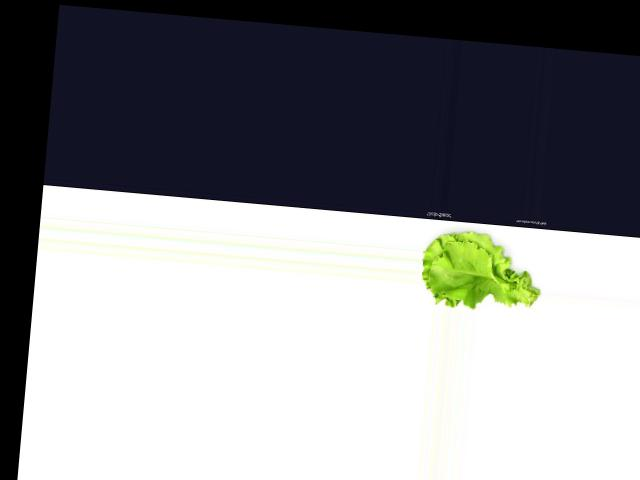lettuce: (419, 221, 543, 315)
